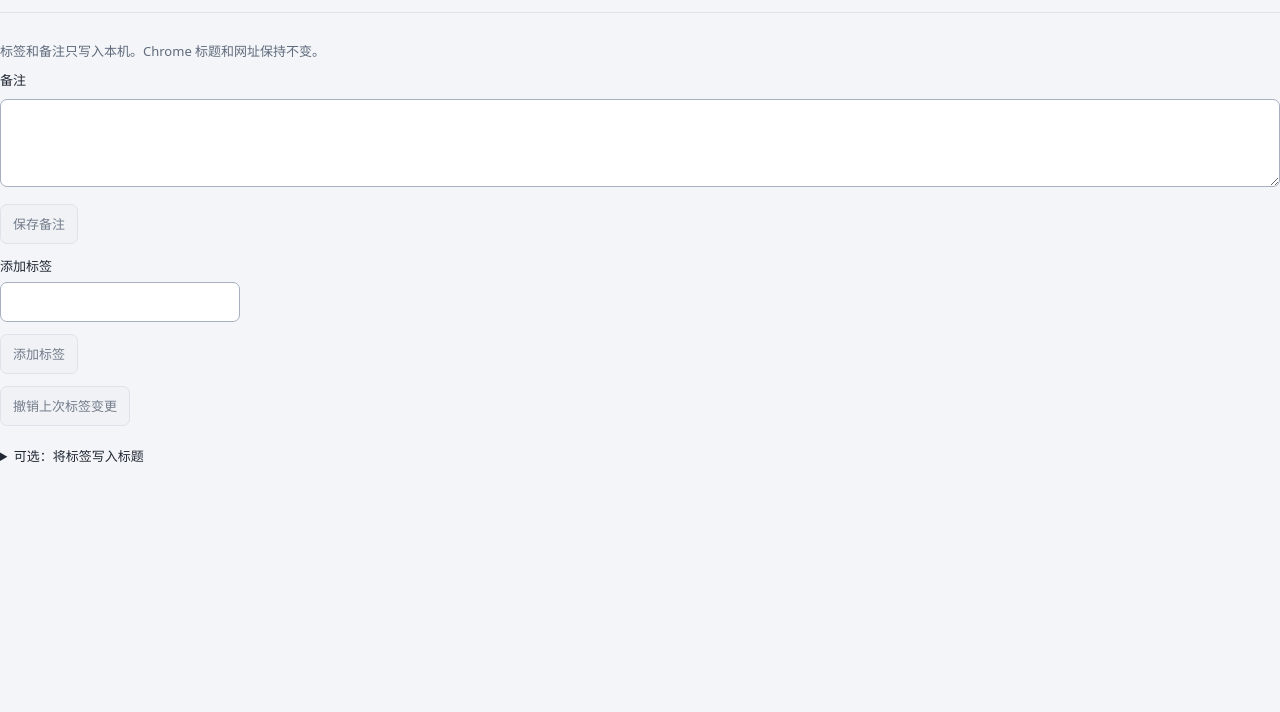
Test: shows an external title conflict and does not restore it
The width and height of the screenshot is (1280, 712).
Step 1. Click the heading "可选：将标签写入标题" → (79, 456), box [14, 447, 144, 465]
(page scrolled)
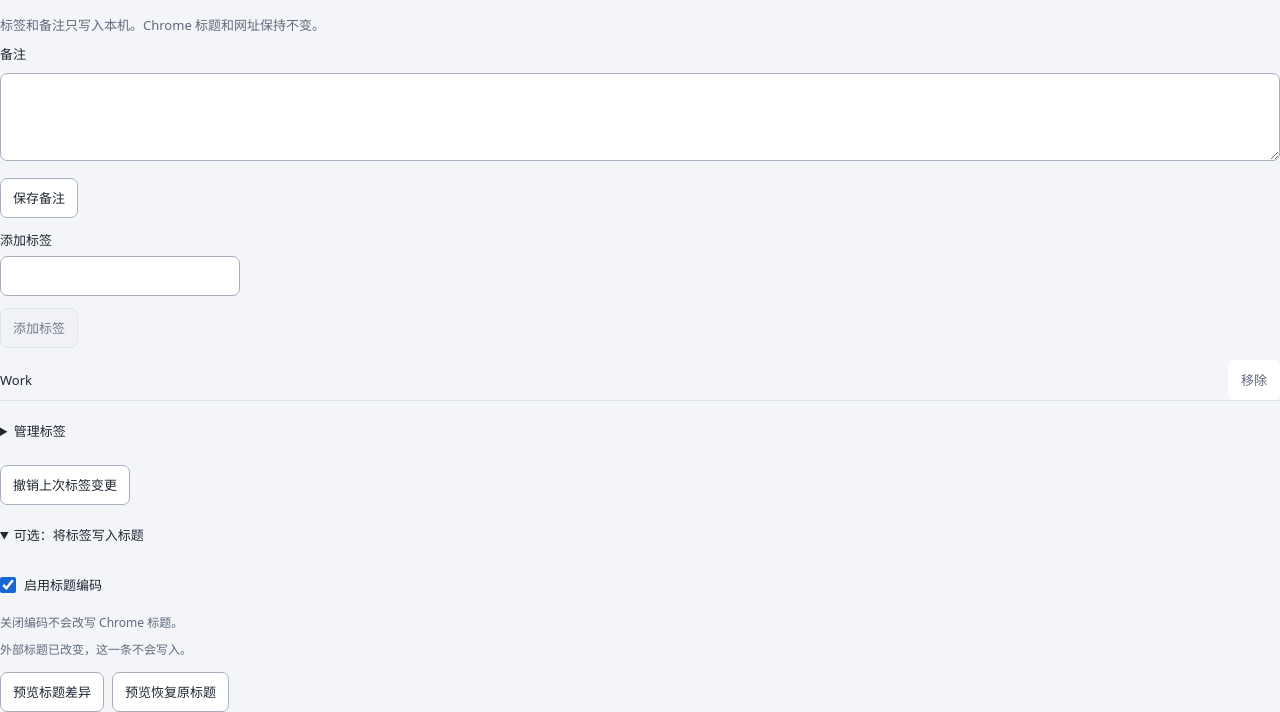
Expected: the text "外部标题已改变，这一条不会写入。" is shown, [0, 641, 192, 658]
Step 2. Click the button "预览标题差异" → (52, 692), box [0, 672, 104, 711]
(page scrolled)
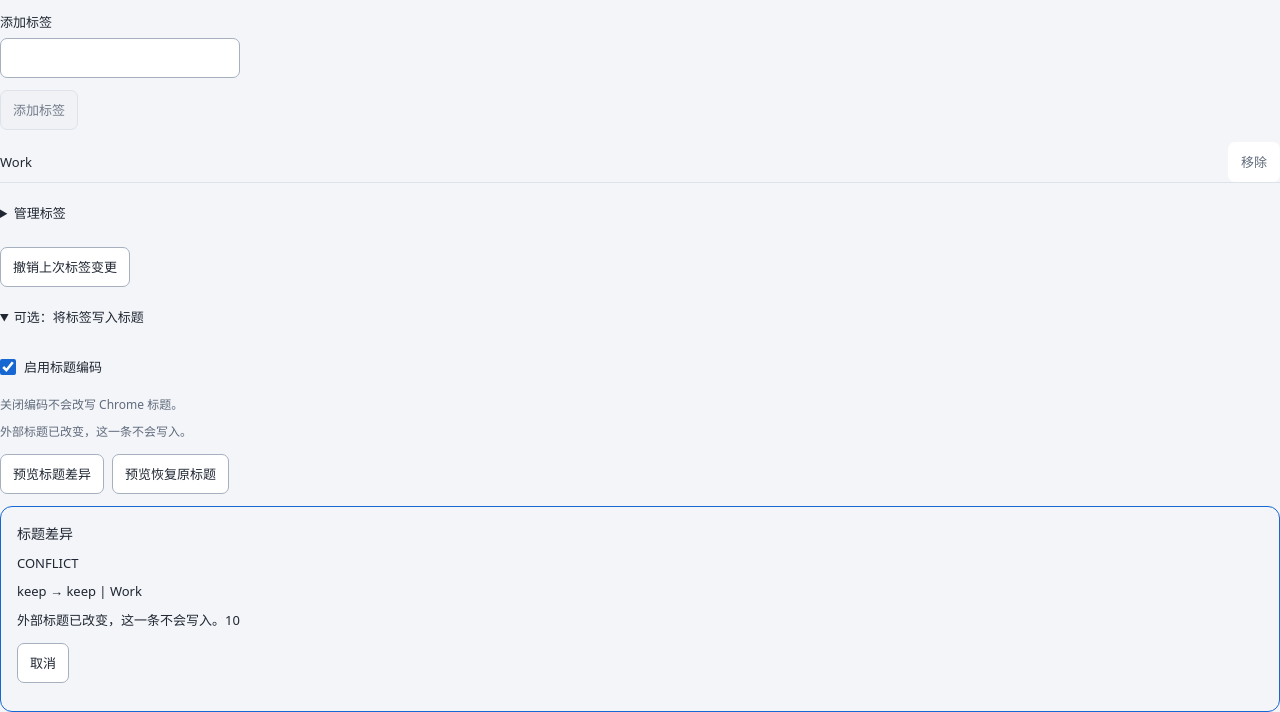
Expected: the text "外部标题已改变，这一条不会写入。10" is shown, [17, 611, 240, 629]
